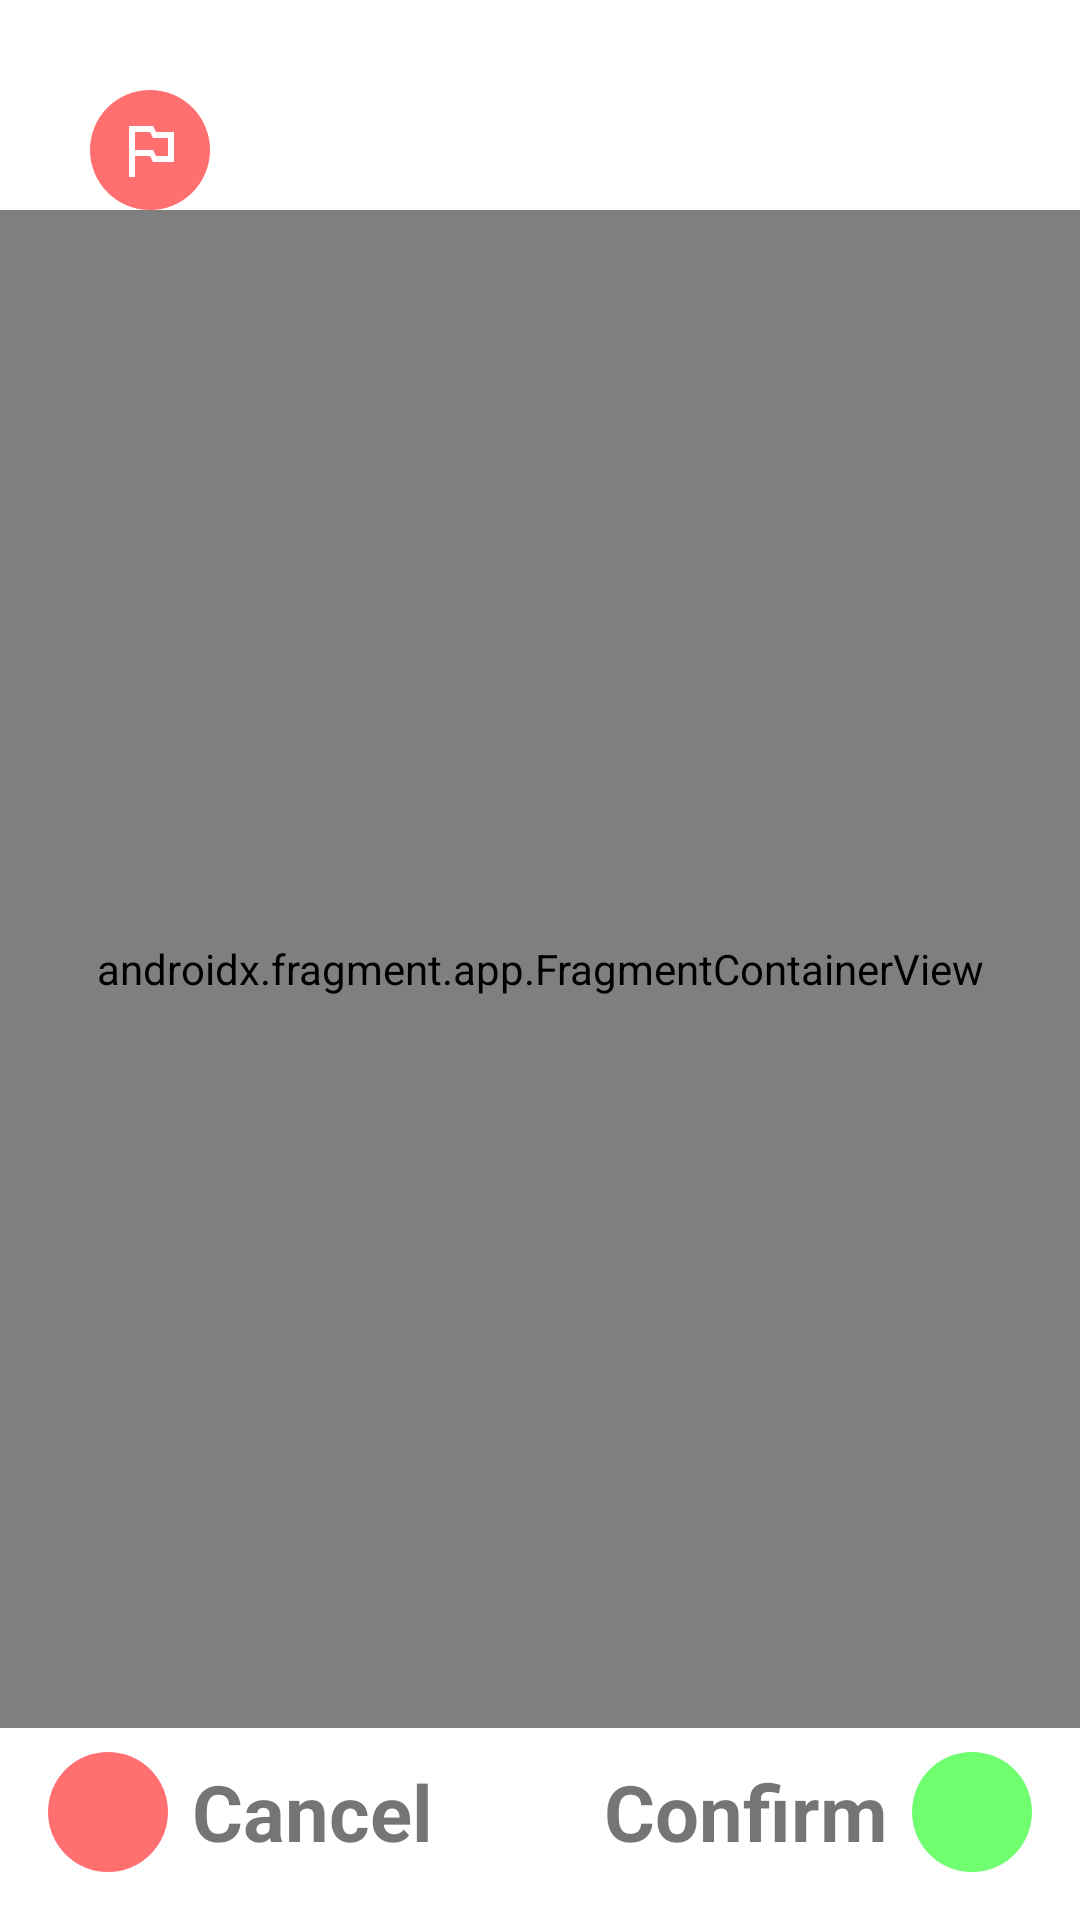

Icons on this 1080*1920 Android screen, each with its box as (x1, y1, x2, y2):
Scan marker: (90, 90, 210, 210)
